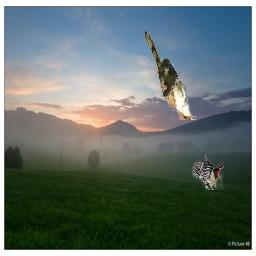Cuckoo: (145, 32, 197, 121)
Woodpecker: (192, 156, 224, 191)
